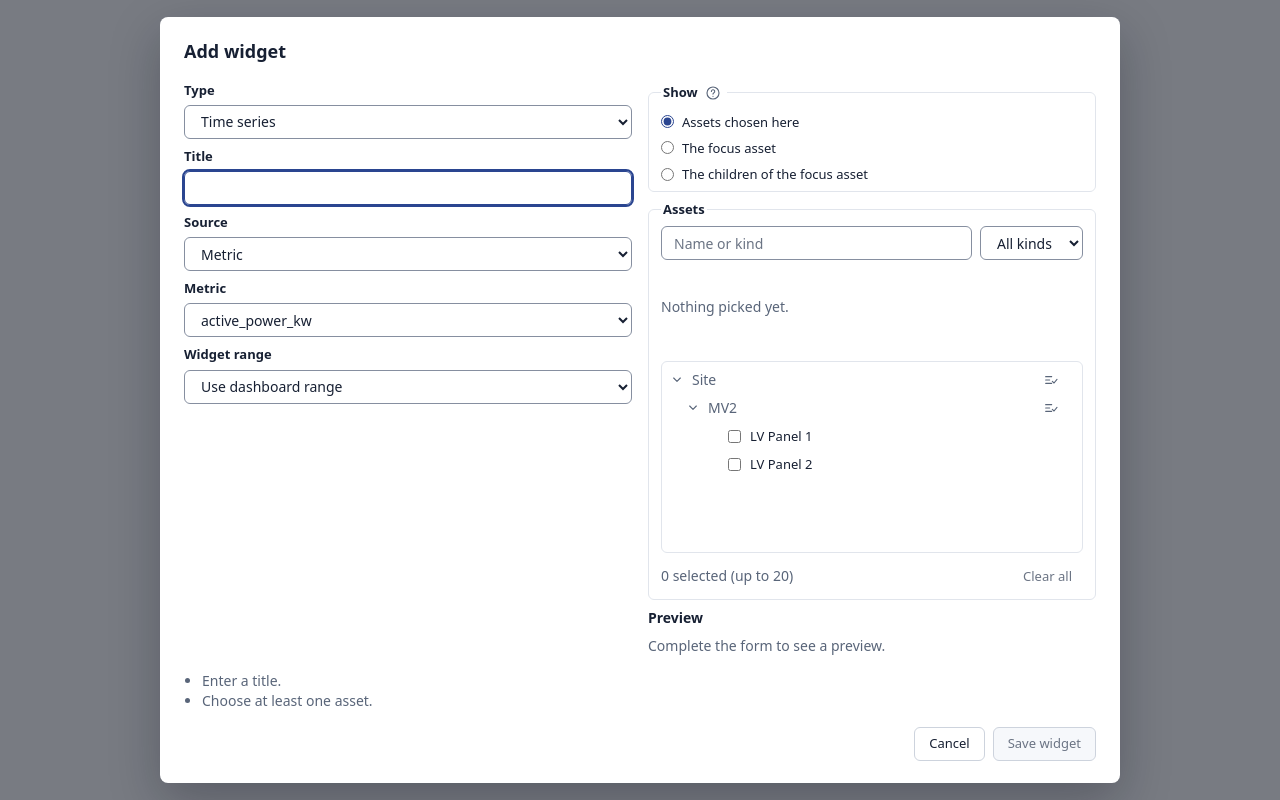
Scenario: which assets a metric widget may list › drops them too when picking a type that forces the metric source (a gauge cannot show energy)
Select "Energy (kWh)" in the dropdown labelled "Source" at (408, 254), box [184,237,632,271]
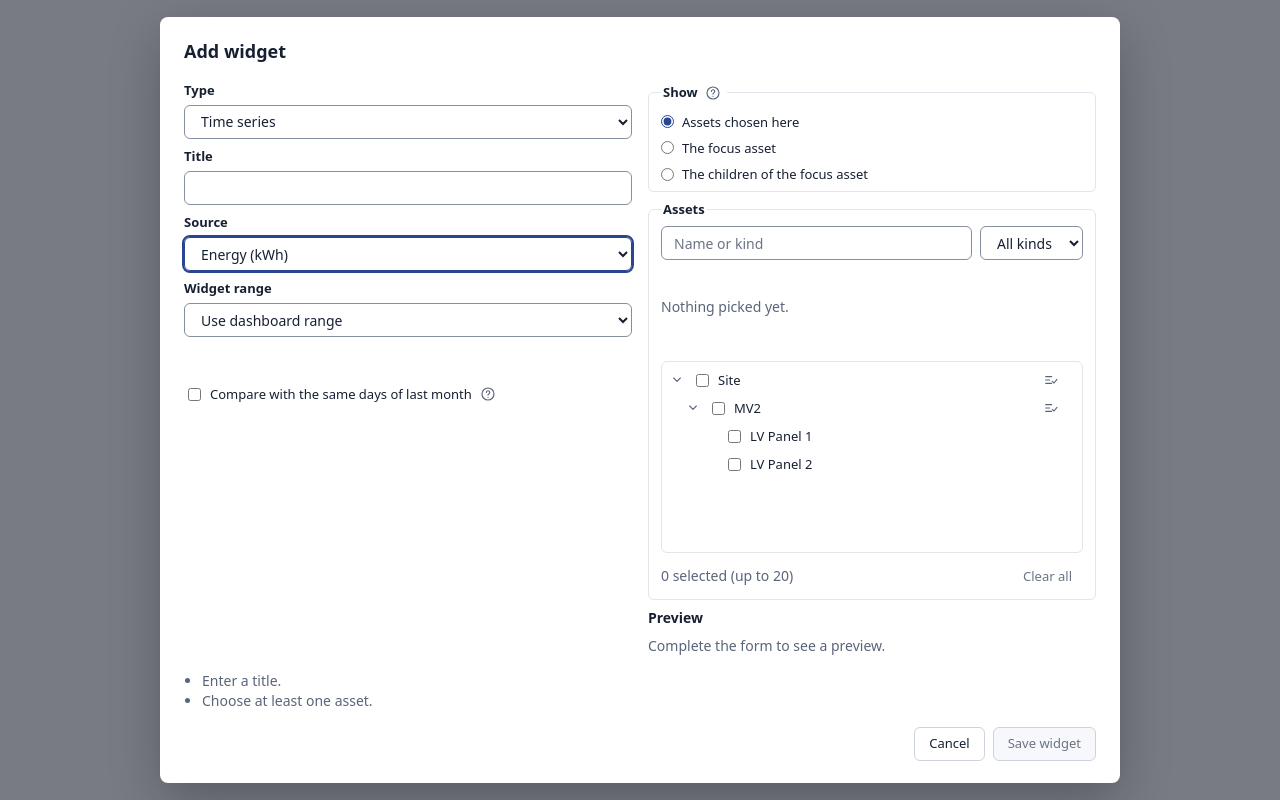
Click the checkbox labelled "MV2" at (718, 408), box [712,402,725,415]
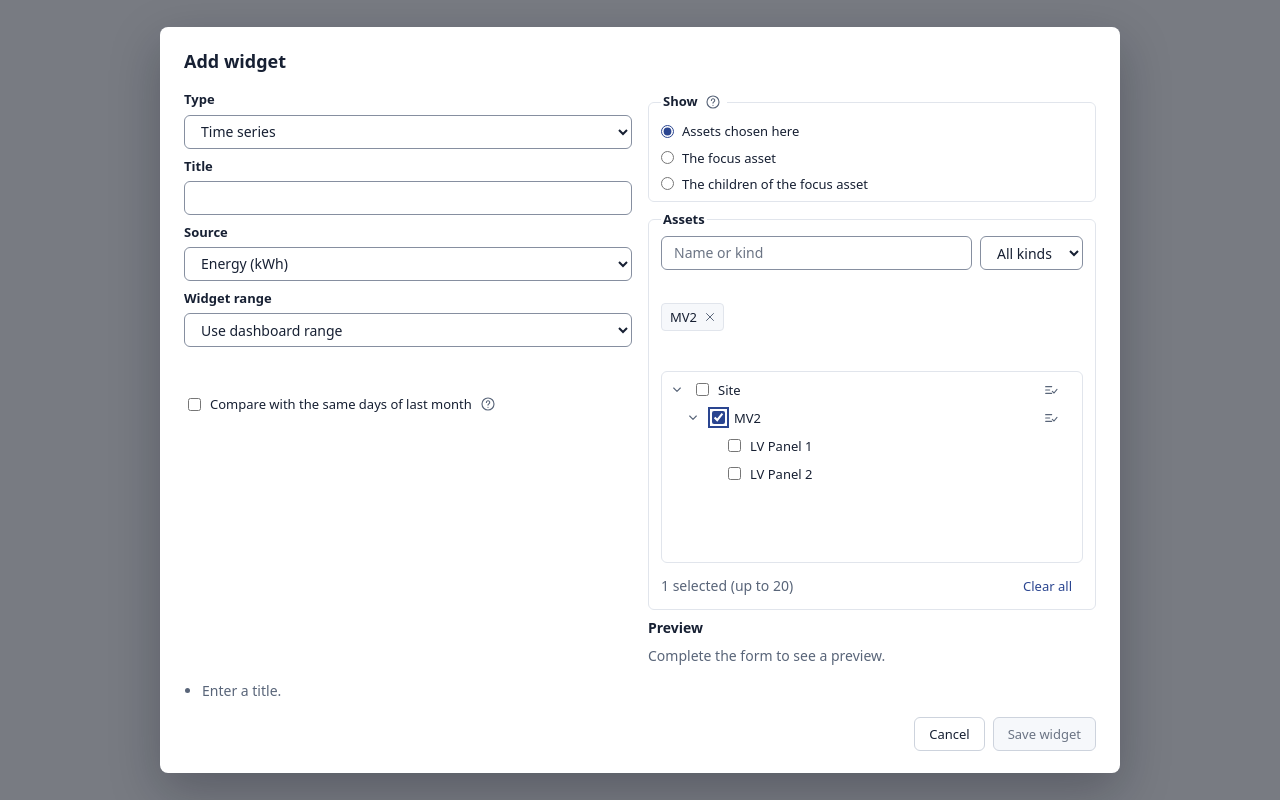
Select "Gauge" in the dropdown labelled "Type" at (408, 132), box [184,115,632,149]
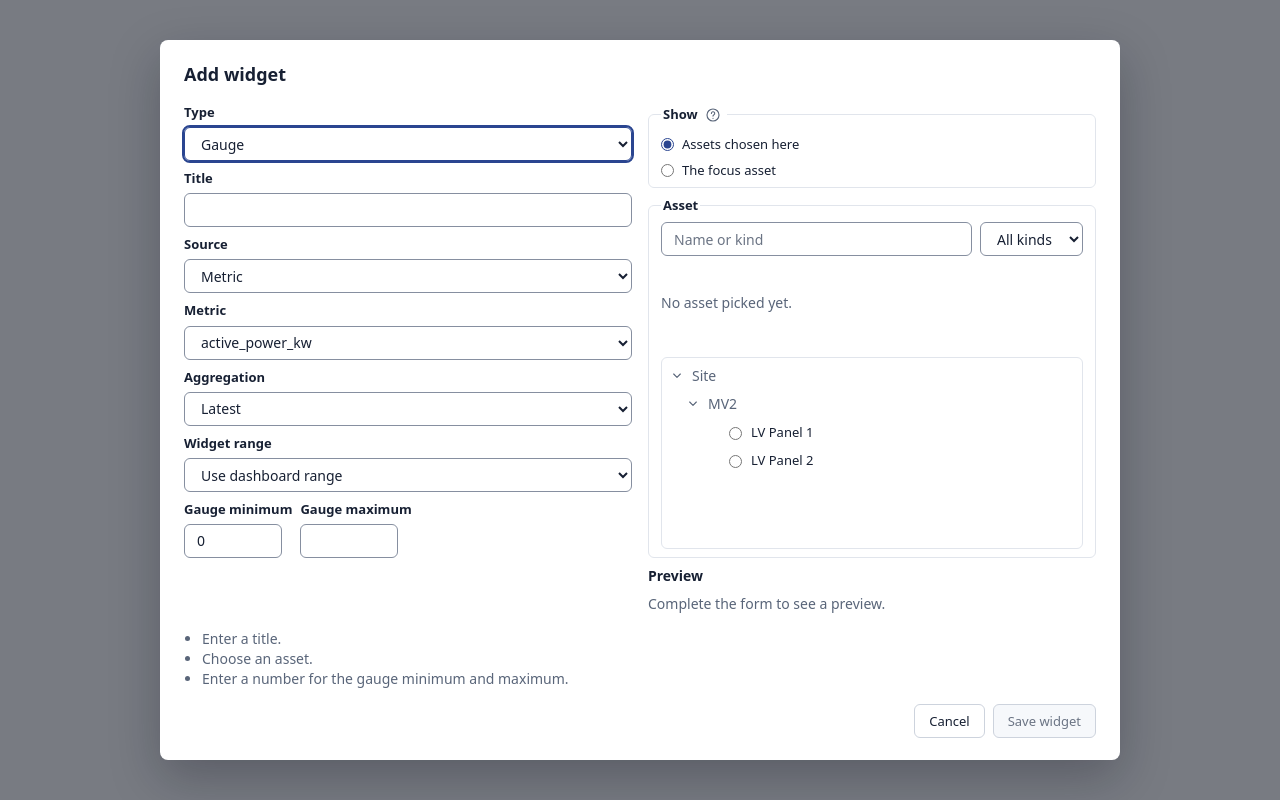
Expected: the list item "Choose an asset." is shown, [202,649,313,668]
